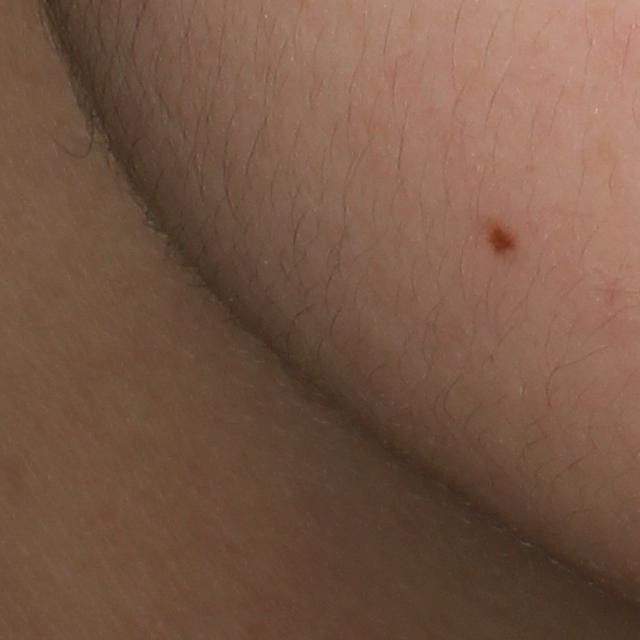nevus: (486, 215, 516, 260)
